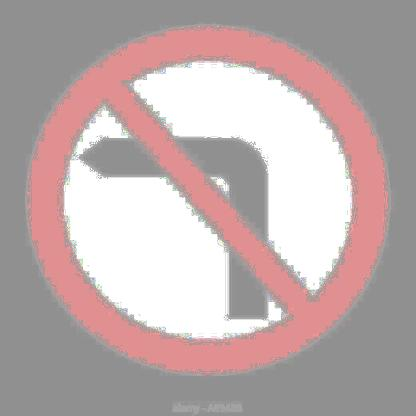No left turn: (30, 25, 387, 376)
